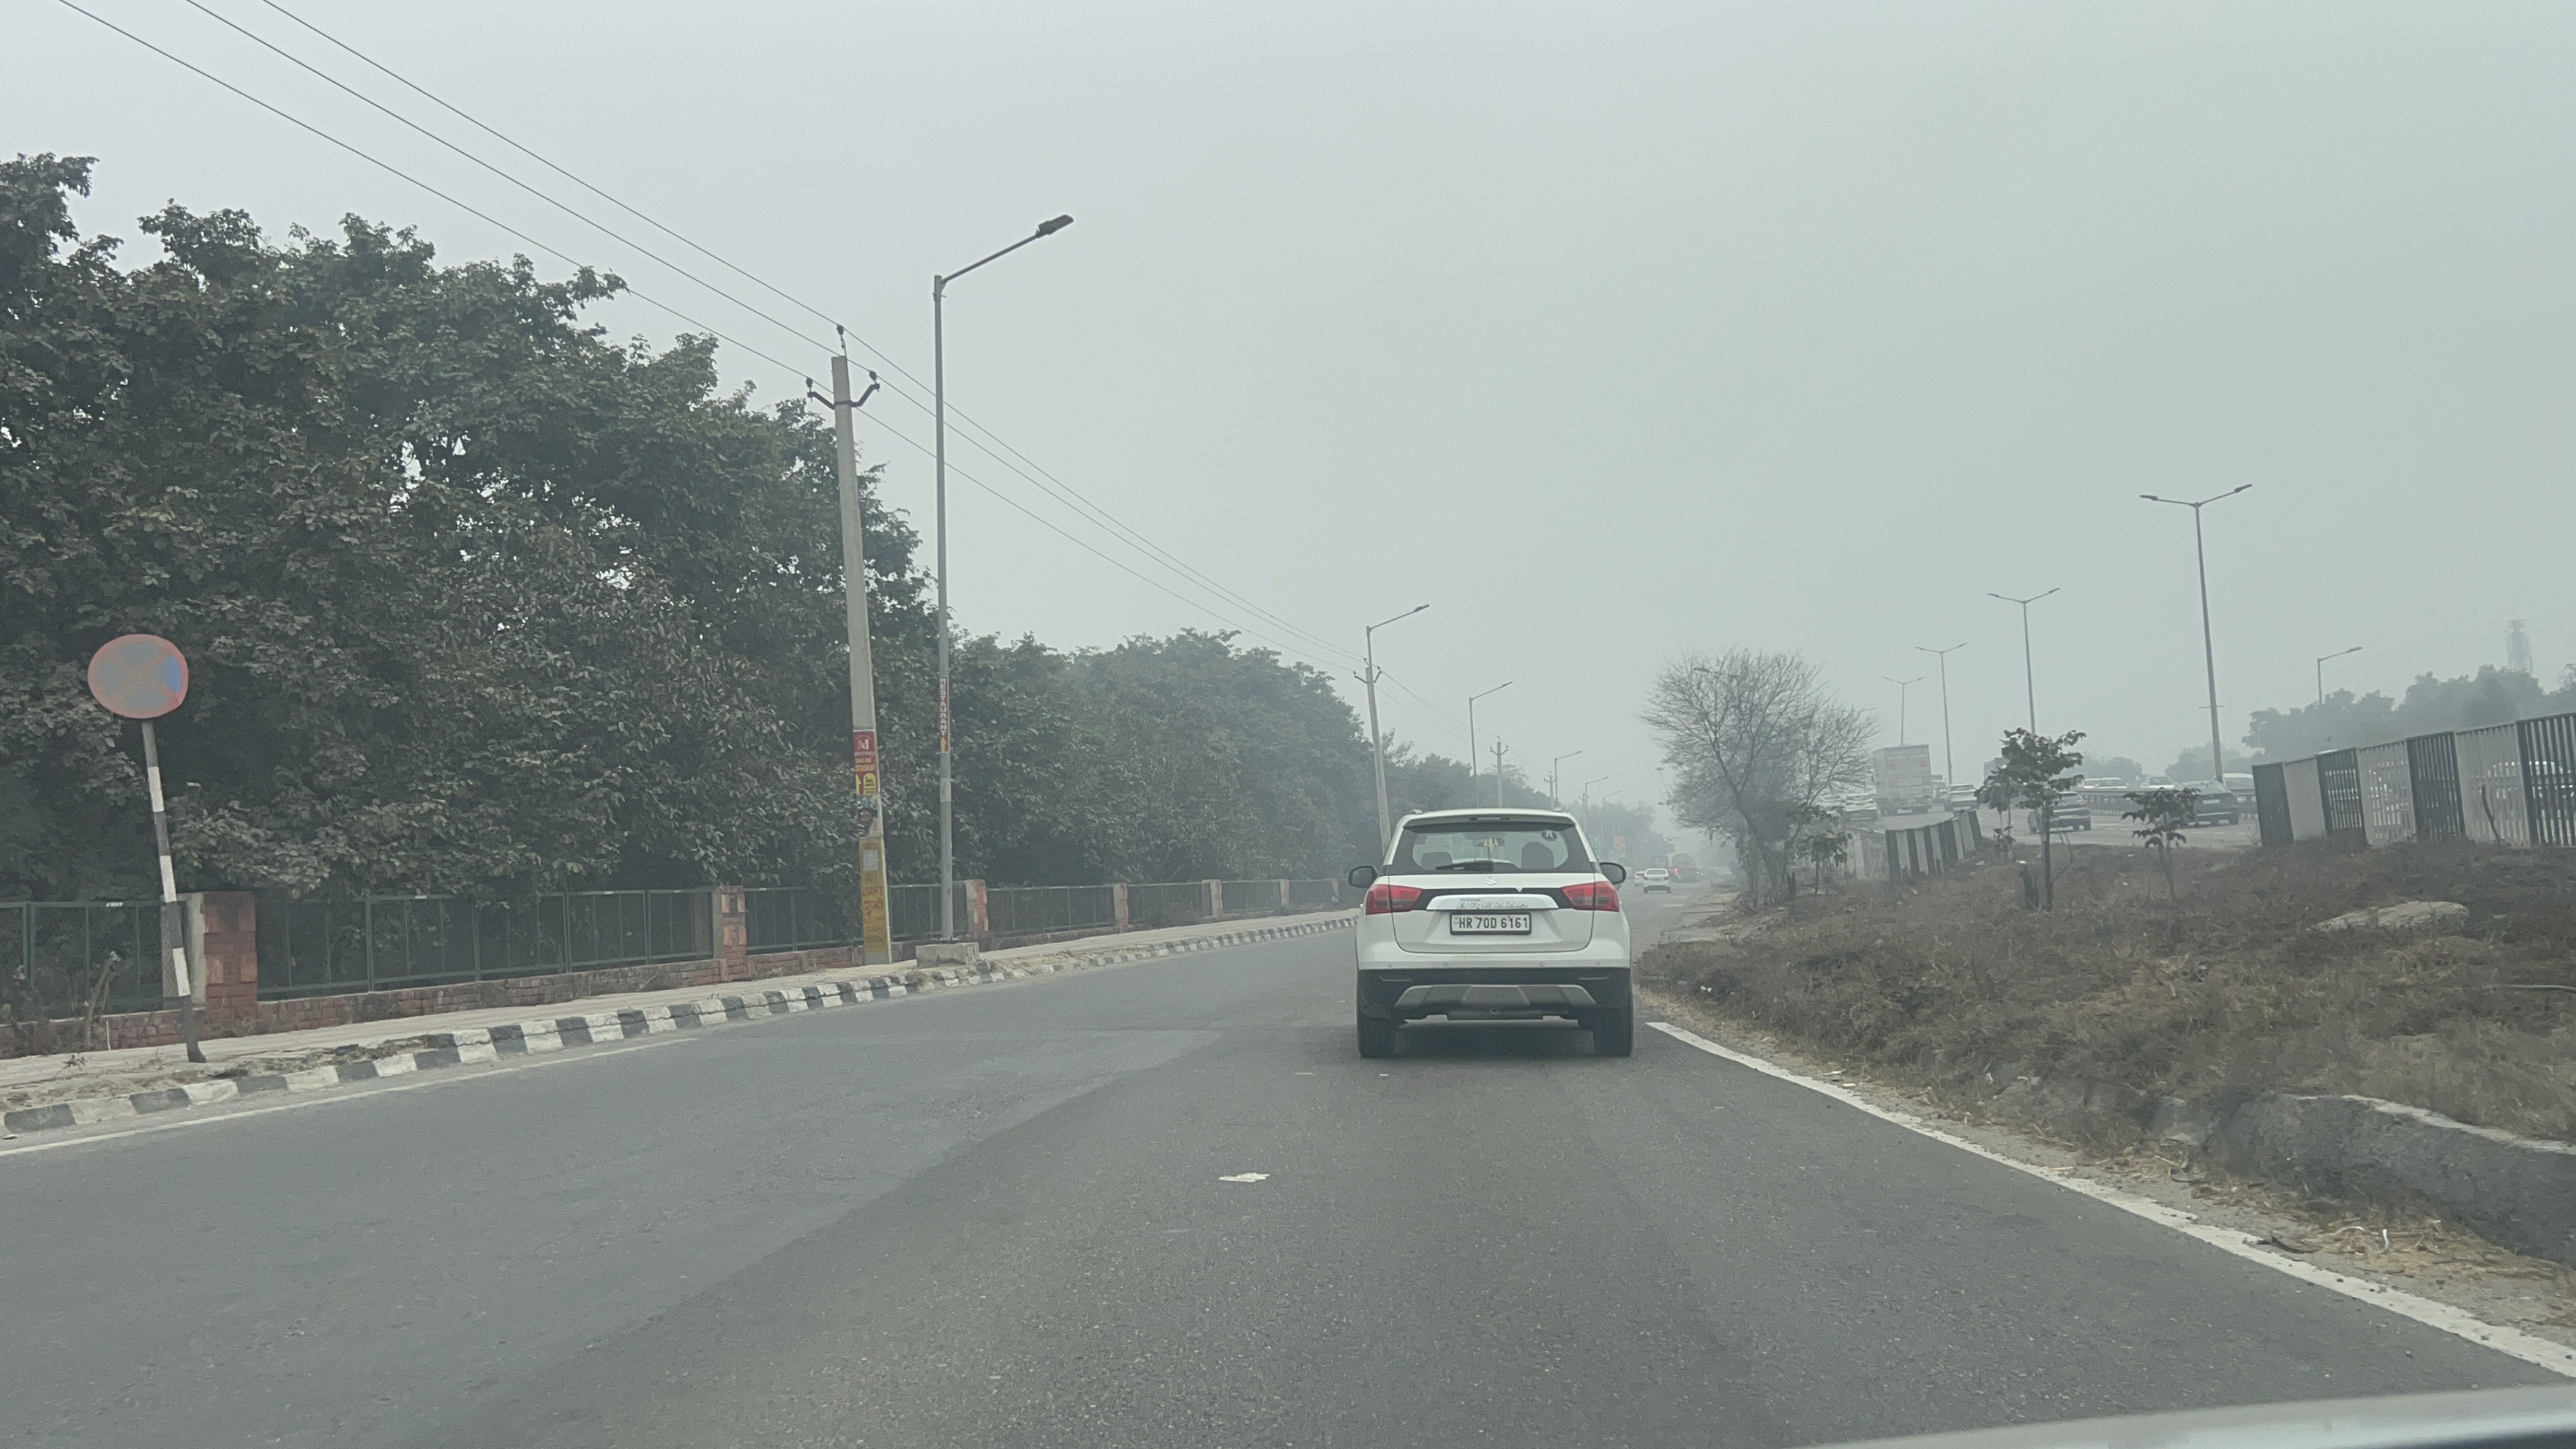Mandatory: (76, 625, 203, 727)
